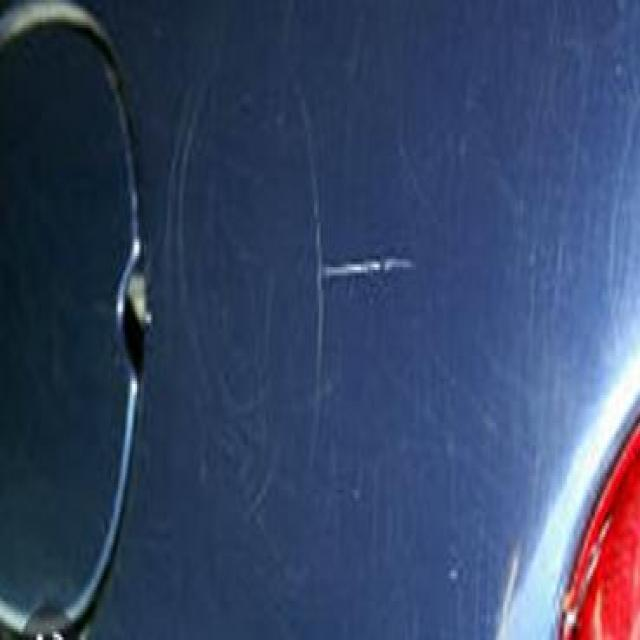scratch: (311, 249, 431, 291)
